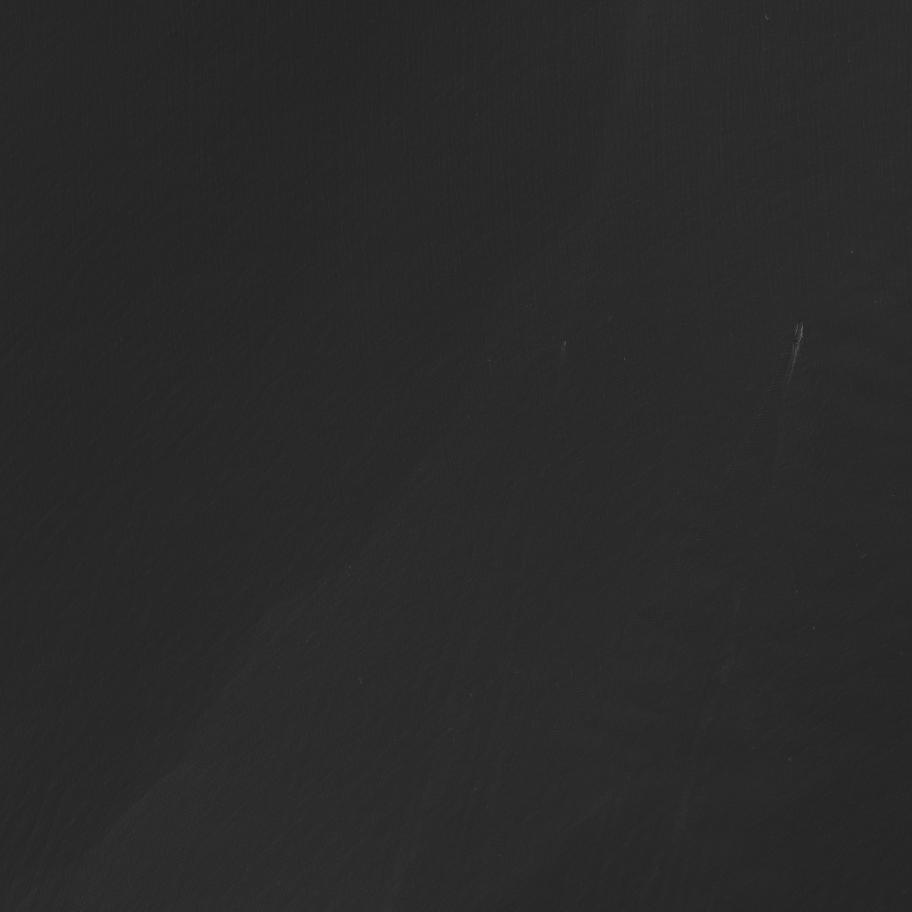ship: (793, 320, 803, 349), (563, 340, 566, 347)
